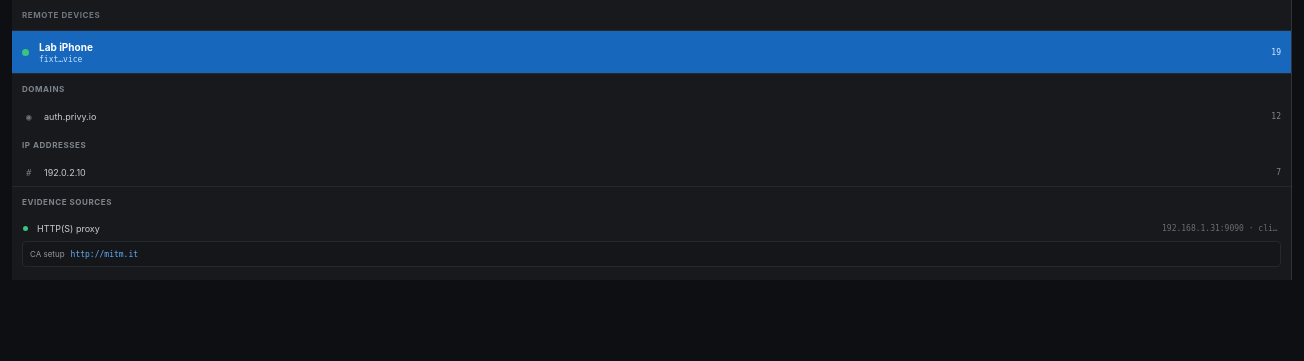
Scenario: EndpointSidebar › shows observed proxy routing separately from unresolved HTTPS trust
Click the text "CA setup". click: (47, 254)
box: [30, 249, 65, 259]
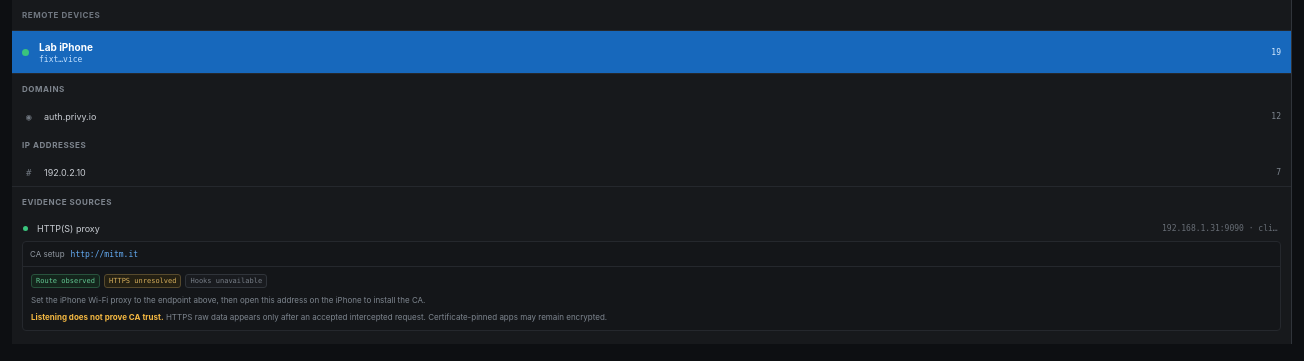
Now the text "Route observed" is shown, box [31, 274, 100, 288]
Now the text "HTTPS unresolved" is shown, box [104, 274, 182, 288]
